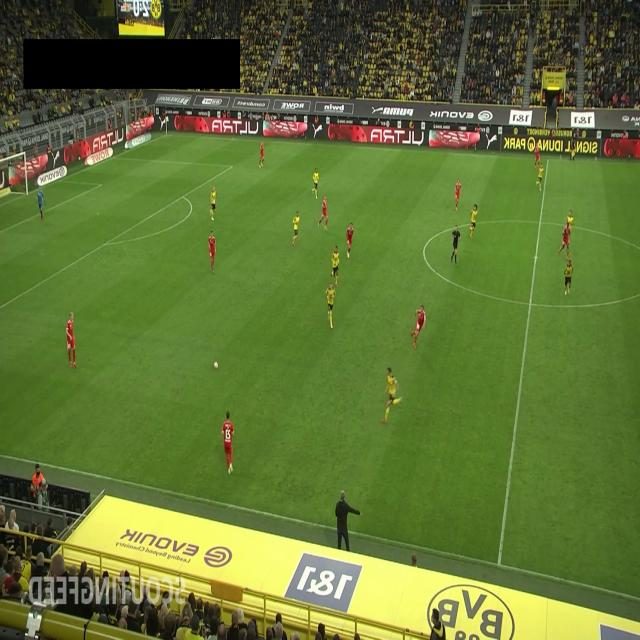ball: (214, 362, 218, 369)
goalkeeper: (36, 186, 46, 222)
player: (382, 367, 401, 424), (221, 410, 235, 475), (411, 304, 426, 349), (66, 312, 78, 368), (429, 607, 446, 639), (558, 224, 571, 260), (326, 282, 335, 330), (331, 245, 340, 287), (208, 230, 216, 274), (318, 195, 328, 230), (564, 259, 573, 296), (469, 204, 478, 239), (292, 210, 300, 247), (346, 222, 354, 258), (536, 162, 544, 191), (312, 167, 319, 200), (210, 186, 216, 221), (455, 179, 461, 212), (534, 142, 541, 169), (566, 209, 574, 231), (258, 141, 264, 168)
referee: (451, 223, 460, 265), (569, 131, 576, 161)
